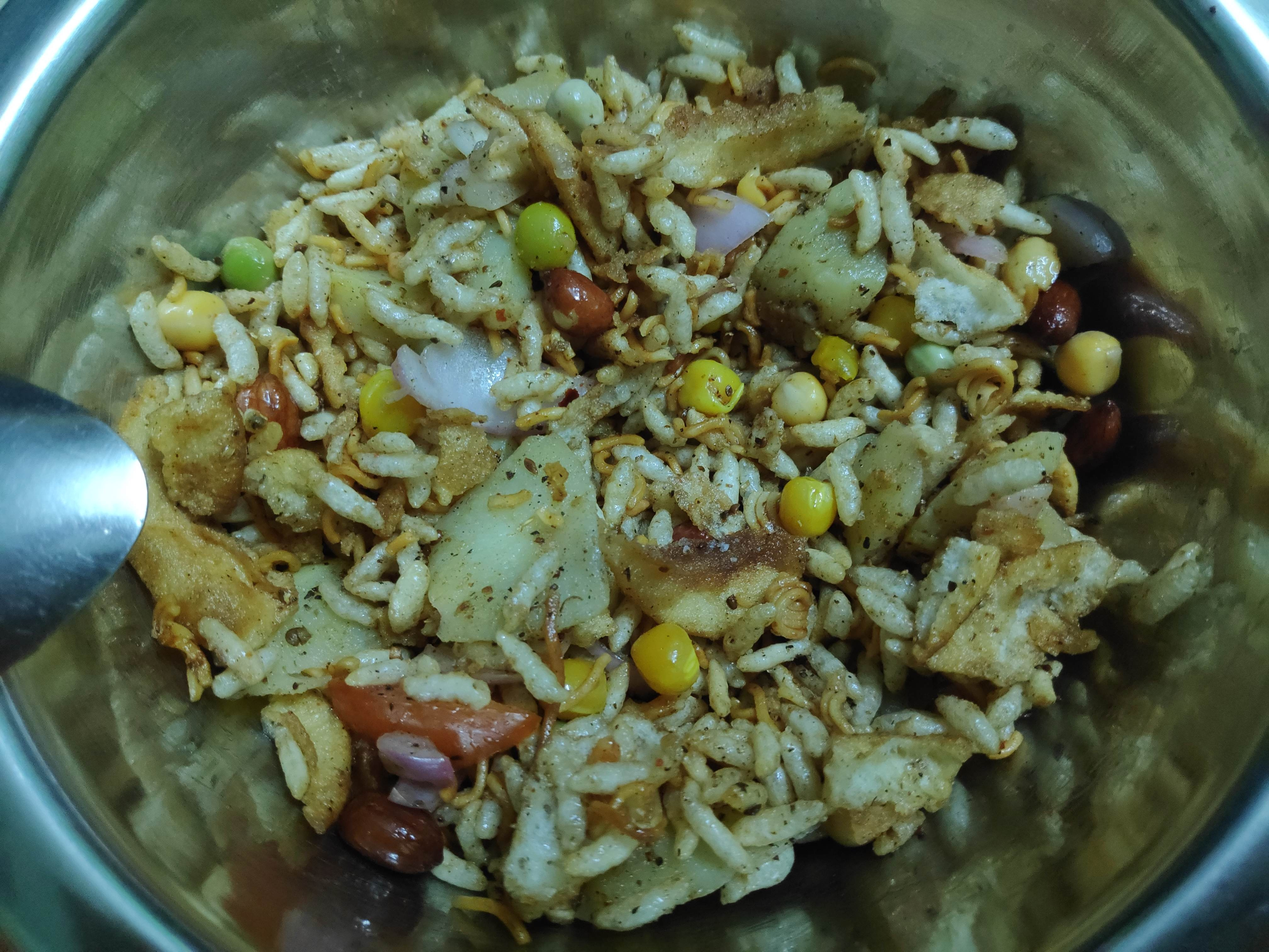chatpate: (57, 79, 1177, 897)
